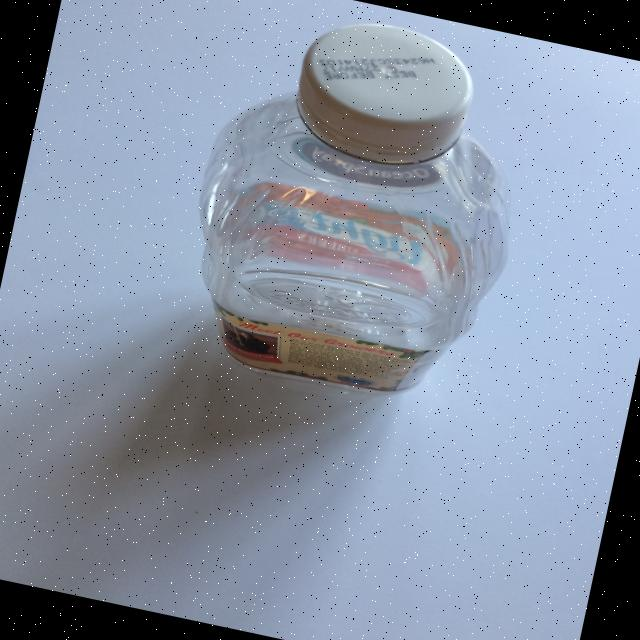plastic: (163, 0, 550, 418)
